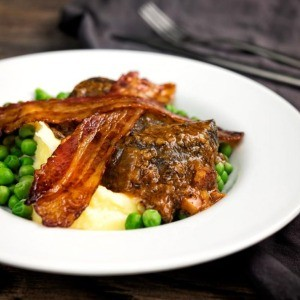liver_brain food: (110, 117, 221, 203)
